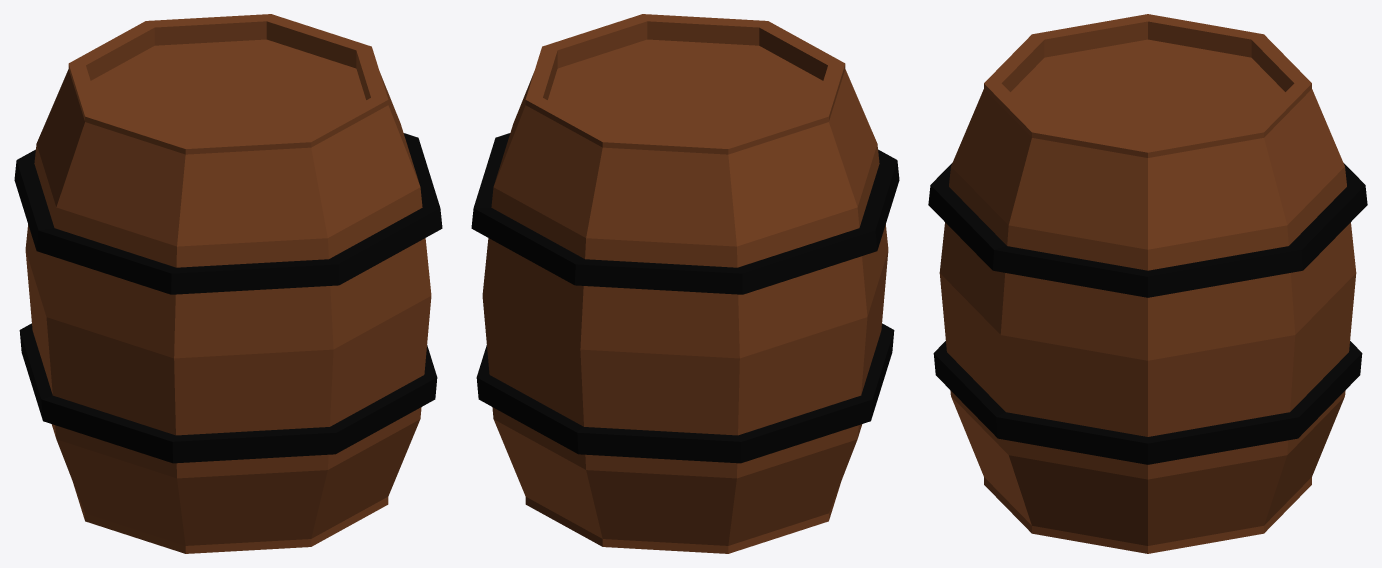
File: BarrelColor.fbx
The picture shows the model from 3 angles, left to right: view 1: azimuth 30°, elevation 25°; view 2: azimuth 150°, elevation 25°; view 3: azimuth 270°, elevation 25°; orthographic projection.
Parts seen in each view (by area): view 1: Cylinder, Cylinder.001, Cylinder.002; view 2: Cylinder, Cylinder.001, Cylinder.002; view 3: Cylinder, Cylinder.001, Cylinder.002.
Boxes of the visible parts, x1,y1,x2,y2 form: Cylinder: [25, 14, 431, 553]; Cylinder.001: [14, 133, 442, 294]; Cylinder.002: [19, 323, 437, 463]; Cylinder: [482, 14, 888, 553]; Cylinder.001: [471, 133, 899, 294]; Cylinder.002: [476, 323, 894, 463]; Cylinder: [939, 14, 1356, 553]; Cylinder.001: [928, 163, 1367, 297]; Cylinder.002: [933, 341, 1362, 464].
Bounding box in the file's own units: 633 × 638 × 633.
